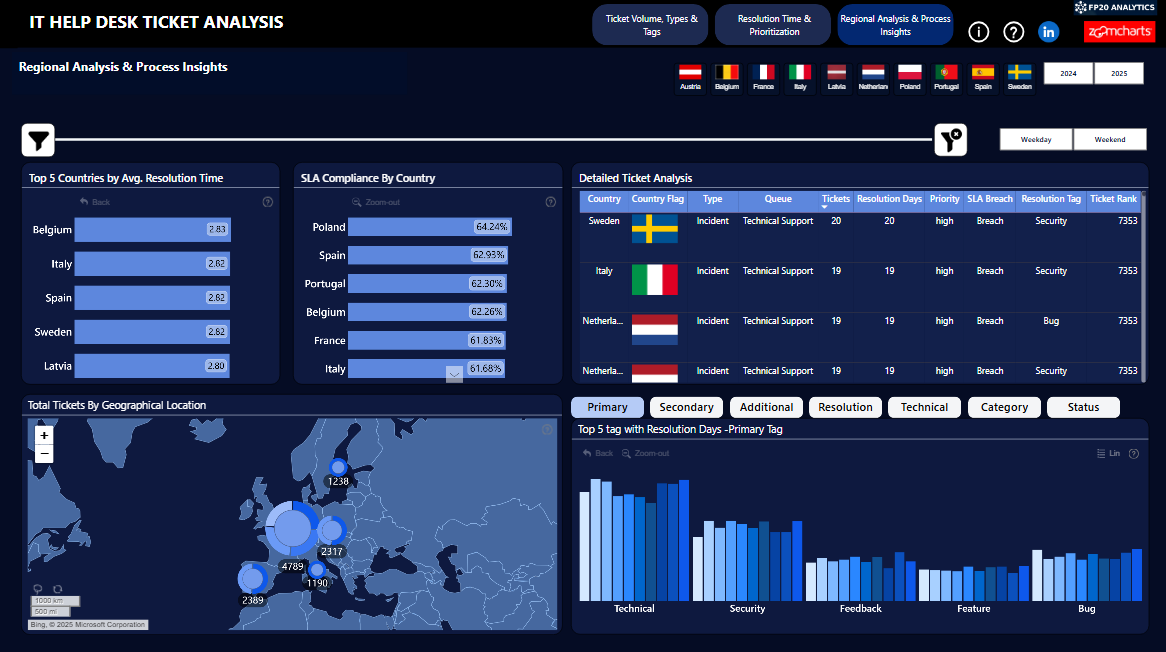

This screenshot's page, from the dashboard's own definition file:
{"tool":"powerbi","page":{"name":"Regional Analysis & Process Insights","canvas":[1920,1080],"ordinal":2},"visuals":[{"type":"shape","box":[87.4,125,1438.3,110],"z":0,"group":"g1"},{"type":"shape","box":[23.3,245,1880,808.3],"z":0},{"type":"actionButton","box":[940,650,120,40],"z":0,"group":"g2"},{"type":"group","id":"g1","title":"Group 1","box":[31.7,125,1551.7,110],"z":1000},{"type":"image","box":[1527.8,152.5,55.2,55.2],"z":1000,"group":"g1"},{"type":"actionButton","box":[1070,650,120,40],"z":1000,"group":"g2"},{"type":"textbox","box":[0,0,31.6,83.5],"z":2000},{"type":"image","box":[31.7,152.7,55.7,55.7],"z":2000,"group":"g1"},{"type":"actionButton","box":[1200,650,120,40],"z":2000,"group":"g2"},{"type":"textbox","title":"IT HELP DESK TICKET ANALYSIS","box":[31.8,0,1888.2,83],"z":3000},{"type":"actionButton","box":[1330,650,120,40],"z":3000,"group":"g2"},{"type":"tableEx","title":"Detailed Ticket Analysis","fields":{"Values":["fact_tickets.Country","dim_flags.Country Flag ","fact_tickets.Type","fact_tickets.Queue","dax_measures.Total Tickets","CountNonNull(fact_tickets.Resolution Days)","fact_tickets.Priority","fact_tickets.SLA Breach","fact_tickets.Resolution Tag","fact_tickets.Ticket Rank by Resolution Time"]},"box":[940,270,948.3,365],"z":4000},{"type":"actionButton","box":[1460,650,120,40],"z":4000,"group":"g2"},{"type":"textbox","title":"Regional Analysis & Process Insights","box":[23.3,90,648.3,70],"z":5000},{"type":"actionButton","box":[1590,650,120,40],"z":5000,"group":"g2"},{"type":"ZoomChartsDrillDownComboBarProE77E4ED357DC402ABA005987437CF8","title":" Top 5 Countries by Avg. Resolution Time","fields":{"Category":["fact_tickets.Country"],"Values1":["dax_measures.Avg Resolution Days"]},"box":[38.3,270,425,365],"z":6000},{"type":"actionButton","box":[1720,650,120,40],"z":6000,"group":"g2"},{"type":"group","id":"g2","title":"Tag Buttons Primary","box":[940,650,900,40],"z":10000},{"type":"image","box":[1758,35.2,162.5,45.5],"z":17000},{"type":"image","box":[1758,0,148.4,34.8],"z":18000},{"type":"image","box":[1700.4,34.8,45.4,45.4],"z":19000},{"type":"actionButton","box":[1585.4,34.8,45.4,45.4],"z":20000},{"type":"actionButton","box":[1642.9,34.8,45.4,45.4],"z":21000},{"type":"slicer","fields":{"Values":["dim_date.Year"]},"box":[1705,103.3,215,50],"z":22000},{"type":"ZoomChartsFacetChartPaidE77E4ED357DC402ABA005987437CF500","title":"Top 5 tag  with Resolution Days  -Primary Tag","fields":{"Category":["fact_tickets.Primary Tag"],"RuleColor":["dax_measures.Avg Resolution Days"],"Values1":["dax_measures.Total Tickets"],"Legend":["fact_tickets.Country"]},"box":[940,690,948.3,355],"z":23000},{"type":"ZoomChartsDrillDownComboBarProE77E4ED357DC402ABA005987437CF8","title":"SLA Compliance By Country ","fields":{"Category":["fact_tickets.Country"],"Values1":["dax_measures.SLA Compliance %"]},"box":[483.3,270,443.3,365],"z":30000},{"type":"slicer","fields":{"Values":["dim_date.Weekend Flag"]},"box":[1630,153.3,290,50],"z":31000},{"type":"ZoomChartsDrillDownMapPro6AFEEB10499543F282BD06EF315D5EAA","title":"Total Tickets By Geographical Location","fields":{"latitude":["dim_country.Latitude"],"longitude":["dim_country.Longitude"],"name":["dim_country.Country"],"value":["dax_measures.Total Tickets"],"nodeReachRadius":["dax_measures.Total Tickets"],"color":["dax_measures.Total Tickets"]},"box":[38.3,650,888.3,395],"z":32000},{"type":"pageNavigator","box":[968.3,6.7,605,73.3],"z":35000}]}

Visuals, with their boxes in screenshot pixels (x1, y1, x2, y2), scaled from the page's 1920x1080 canvas onto the 1166x652 screenshot:
shape: box(53, 75, 927, 142)
shape: box(14, 148, 1156, 636)
actionButton: box(571, 392, 644, 417)
"Group 1" group: box(19, 75, 962, 142)
image: box(928, 92, 961, 125)
actionButton: box(650, 392, 723, 417)
textbox: box(0, 0, 19, 50)
image: box(19, 92, 53, 126)
actionButton: box(729, 392, 802, 417)
"IT HELP DESK TICKET ANALYSIS" textbox: box(19, 0, 1165, 50)
actionButton: box(808, 392, 881, 417)
"Detailed Ticket Analysis" tableEx: box(571, 163, 1147, 383)
actionButton: box(887, 392, 960, 417)
"Regional Analysis & Process Insights" textbox: box(14, 54, 408, 97)
actionButton: box(966, 392, 1038, 417)
" Top 5 Countries by Avg. Resolution Time" ZoomChartsDrillDownComboBarProE77E4ED357DC402ABA005987437CF8: box(23, 163, 281, 383)
actionButton: box(1045, 392, 1117, 417)
"Tag Buttons Primary" group: box(571, 392, 1117, 417)
image: box(1068, 21, 1165, 49)
image: box(1068, 0, 1158, 21)
image: box(1033, 21, 1060, 48)
actionButton: box(963, 21, 990, 48)
actionButton: box(998, 21, 1025, 48)
slicer - dim_date.Year: box(1035, 62, 1165, 93)
"Top 5 tag  with Resolution Days  -Primary Tag" ZoomChartsFacetChartPaidE77E4ED357DC402ABA005987437CF500: box(571, 417, 1147, 631)
"SLA Compliance By Country " ZoomChartsDrillDownComboBarProE77E4ED357DC402ABA005987437CF8: box(294, 163, 563, 383)
slicer - dim_date.Weekend Flag: box(990, 93, 1165, 123)
"Total Tickets By Geographical Location" ZoomChartsDrillDownMapPro6AFEEB10499543F282BD06EF315D5EAA: box(23, 392, 563, 631)
pageNavigator: box(588, 4, 955, 48)
